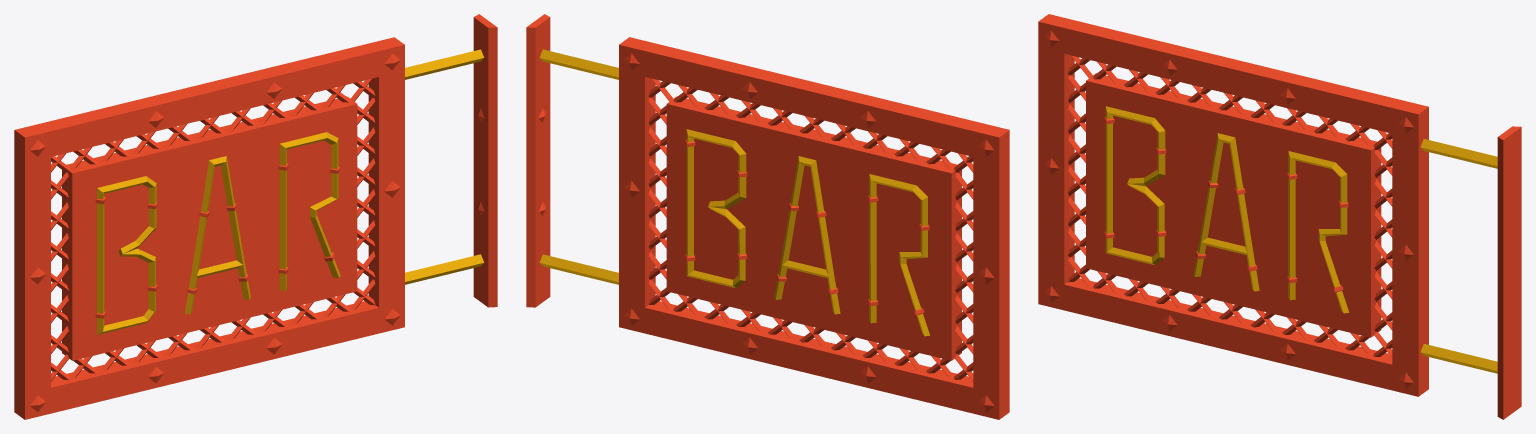
File: SM_Neon_Bar_City.fbx
3 renders of one model, left to right at view 1: azimuth 30°, elevation 25°; view 2: azimuth 150°, elevation 25°; view 3: azimuth 330°, elevation 25°, orthographic.
Parts seen in each view (by area): view 1: SM_Neon_Bar_City; view 2: SM_Neon_Bar_City; view 3: SM_Neon_Bar_City.
Boxes of the visible parts, left/top/right/bottom form: SM_Neon_Bar_City: left=14, top=14, right=497, bottom=419; SM_Neon_Bar_City: left=526, top=14, right=1009, bottom=419; SM_Neon_Bar_City: left=1038, top=14, right=1521, bottom=419.
Bounding box in the file's own units: 2.25 × 1.29 × 0.1778.
